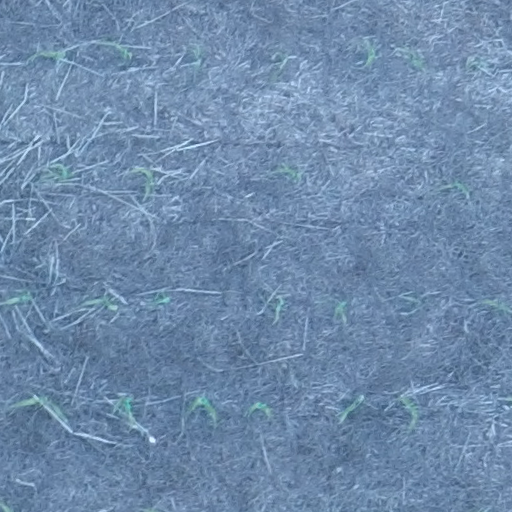planta: (15, 395, 66, 420), (395, 395, 418, 434), (185, 395, 217, 421), (127, 166, 154, 196), (111, 395, 135, 425), (98, 38, 132, 59), (83, 294, 119, 312), (338, 395, 363, 418), (245, 400, 273, 420), (46, 162, 77, 180), (4, 289, 32, 307), (27, 49, 66, 61), (279, 163, 302, 181), (361, 38, 375, 67), (440, 181, 468, 194), (333, 300, 347, 325), (150, 291, 169, 307), (483, 298, 508, 310)
